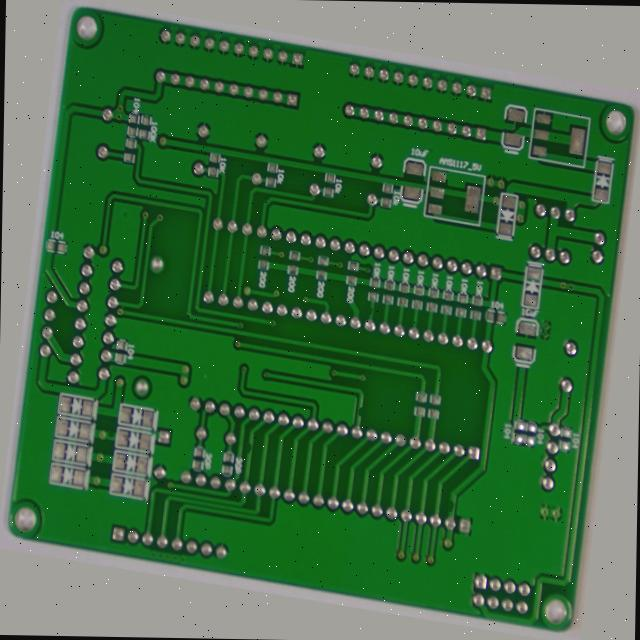mouse_bite: (250, 468, 263, 490), (476, 500, 489, 520), (368, 409, 379, 429), (100, 479, 113, 495), (370, 295, 380, 310)
